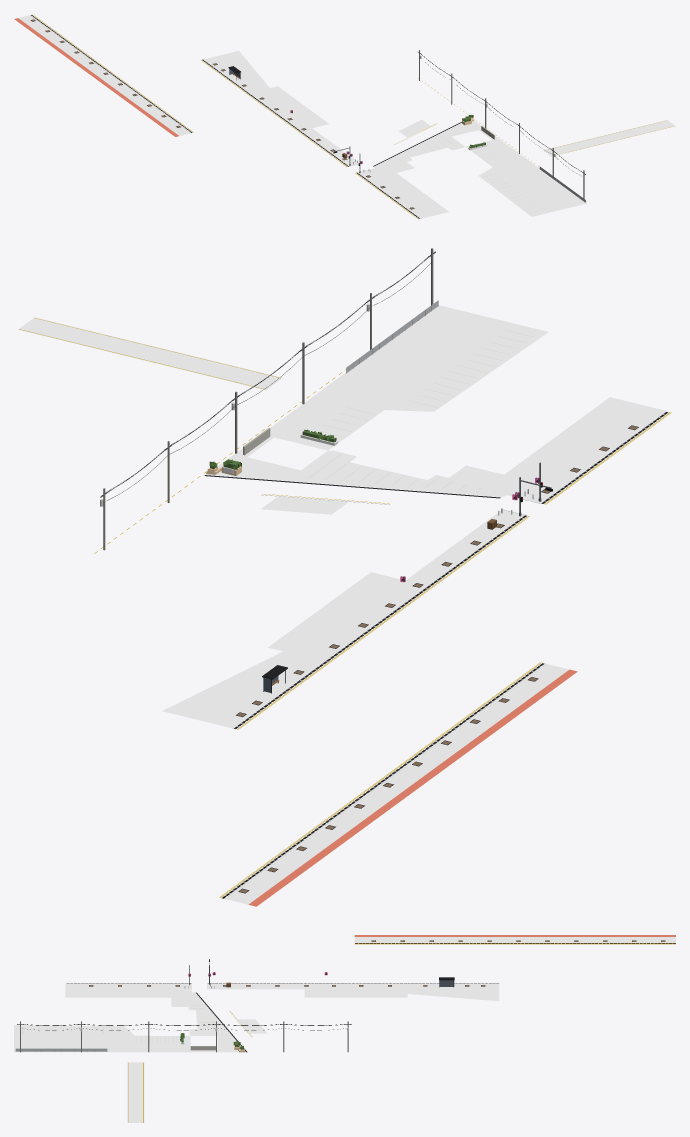
Rendered from street_env.glb.
3 views of the same model, one above another, from view 1: azimuth 30°, elevation 25°; view 2: azimuth 150°, elevation 25°; view 3: azimuth 270°, elevation 25° (orthographic). The views are drawn at different scales.
Parts seen in each view (by area): view 1: Street; view 2: Street; view 3: Street.
Part boxes in pixels (left/top/right/bottom): Street: left=14, top=14, right=675, bottom=219; Street: left=18, top=248, right=671, bottom=906; Street: left=14, top=935, right=675, bottom=1122.
Size of the model in its own units: 138 by 10.5 by 206.
